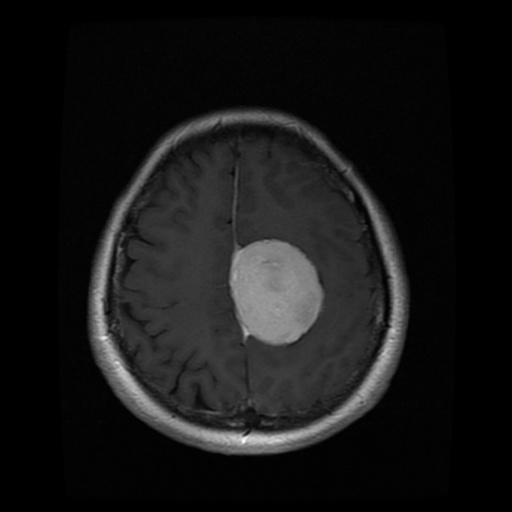meningioma: (230, 240, 326, 343)
